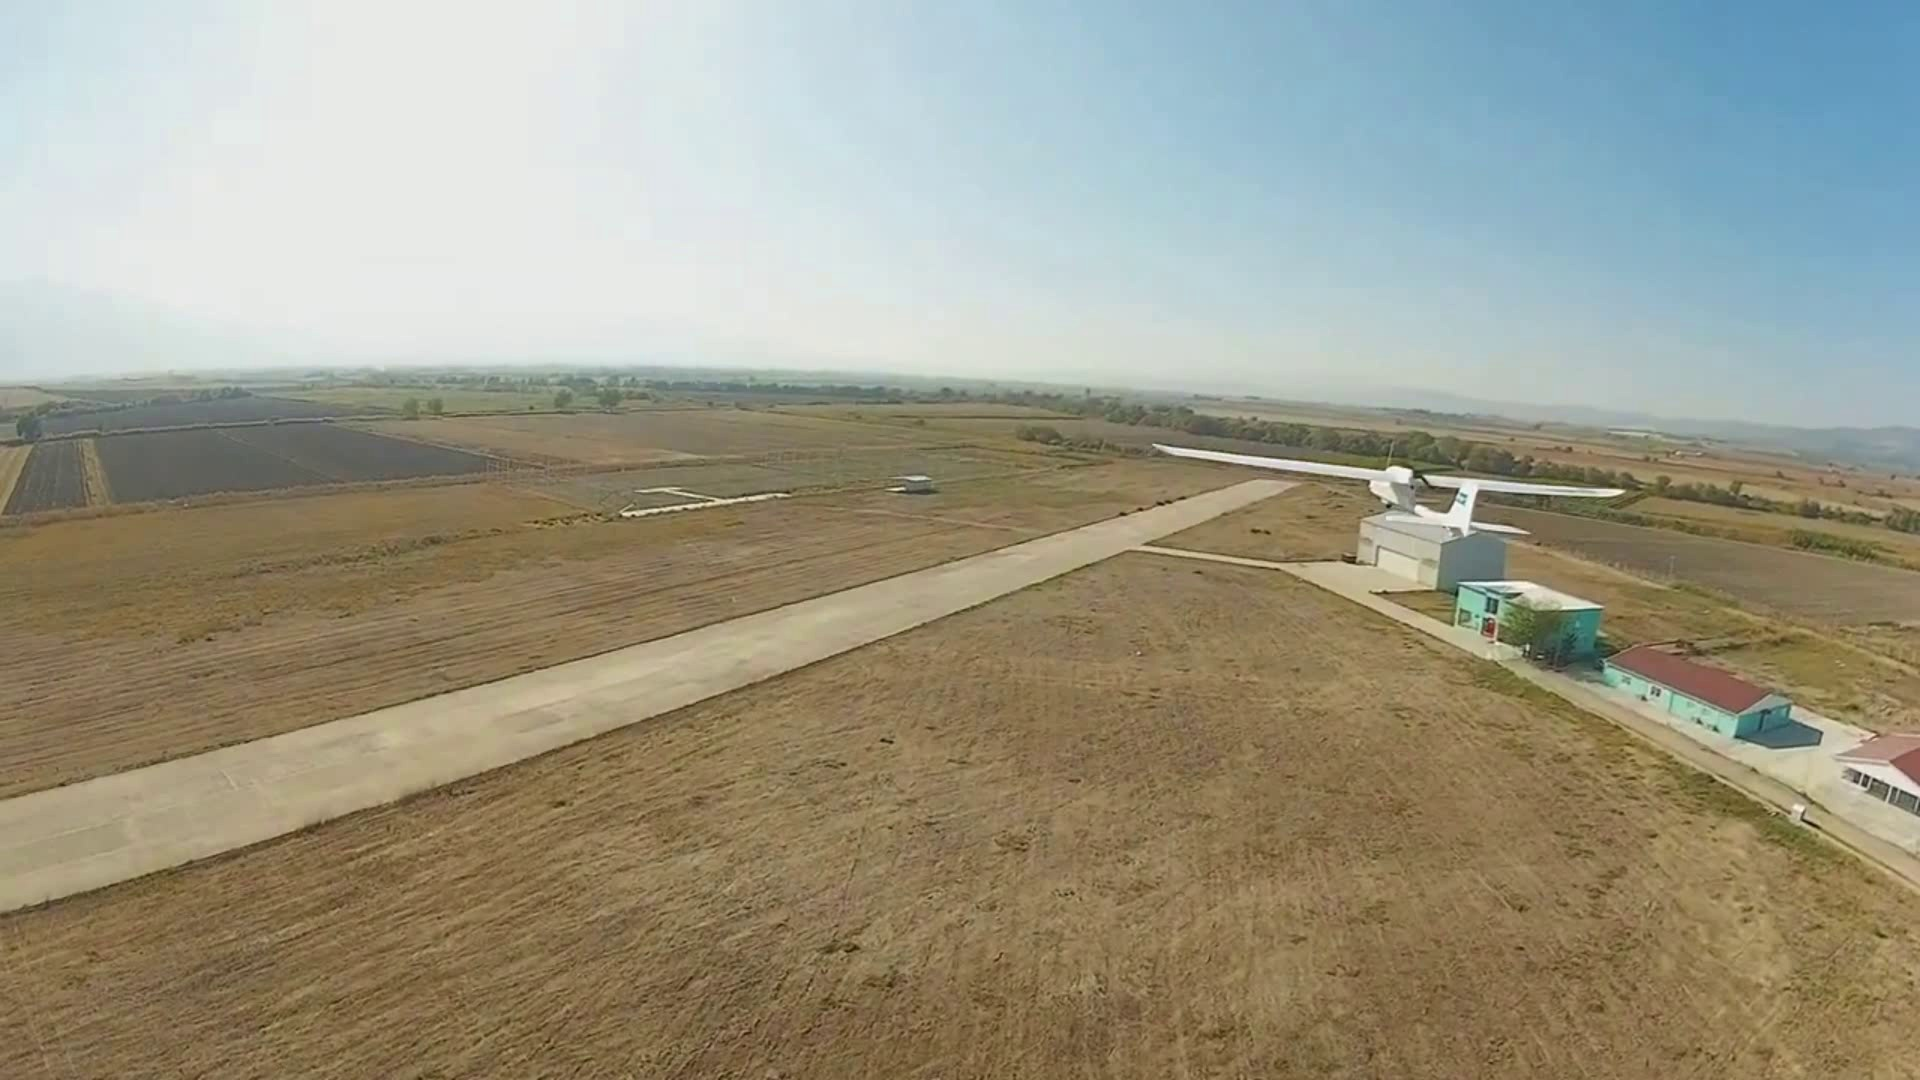airplane: (1147, 437, 1634, 521)
